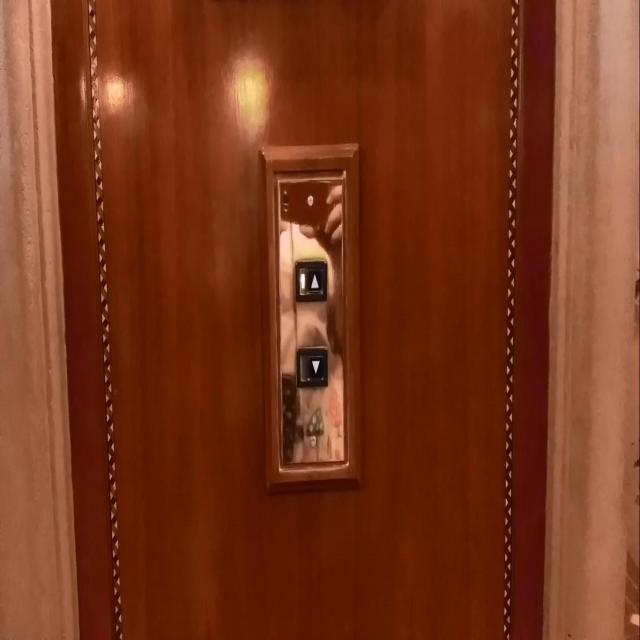down: (295, 346, 327, 385)
up: (295, 261, 325, 297)
